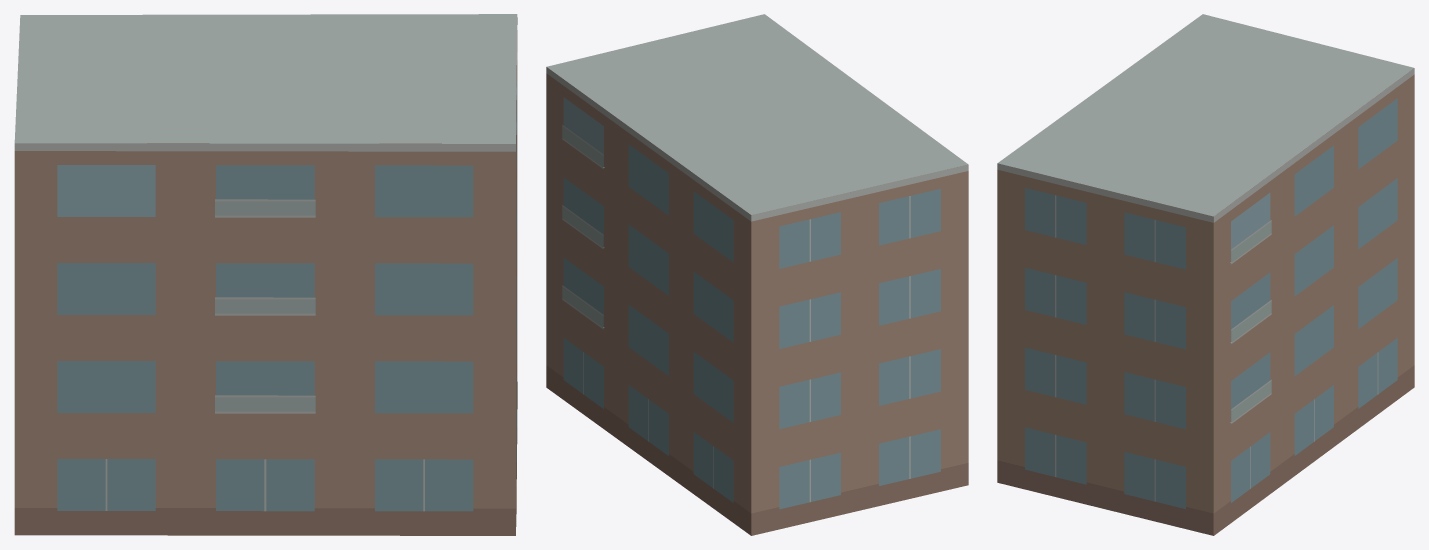
The model's file is survey-upis-32739440.glb.
3 renders of one model, left to right at view 1: azimuth 30°, elevation 25°; view 2: azimuth 150°, elevation 25°; view 3: azimuth 270°, elevation 25°, orthographic. The views are drawn at different scales.
Visible parts, largest first — view 1: survey-upis-32739440.tmp; view 2: survey-upis-32739440.tmp; view 3: survey-upis-32739440.tmp.
Boxes of the visible parts, bbox=[...] form: survey-upis-32739440.tmp: bbox=[14, 14, 517, 535]; survey-upis-32739440.tmp: bbox=[546, 14, 968, 535]; survey-upis-32739440.tmp: bbox=[997, 14, 1414, 535].
Size of the model in its own units: 16.6 by 12.2 by 14.45.
